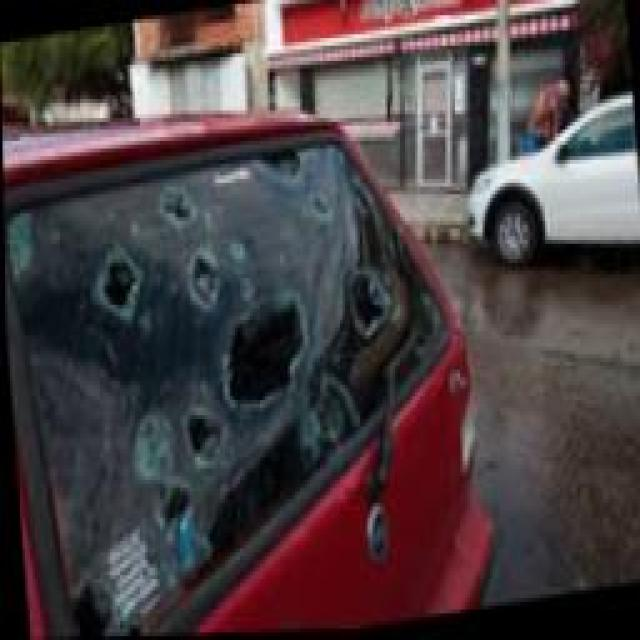rapairable: (4, 138, 434, 546)
